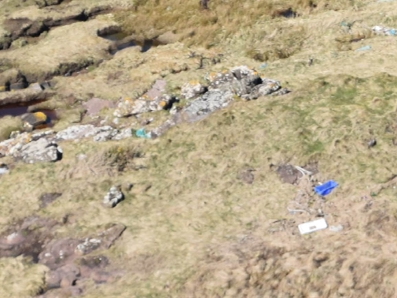scattered_barrel: (334, 14, 397, 58)
white_in_green: (285, 201, 339, 251), (301, 162, 351, 213), (122, 111, 164, 153)
